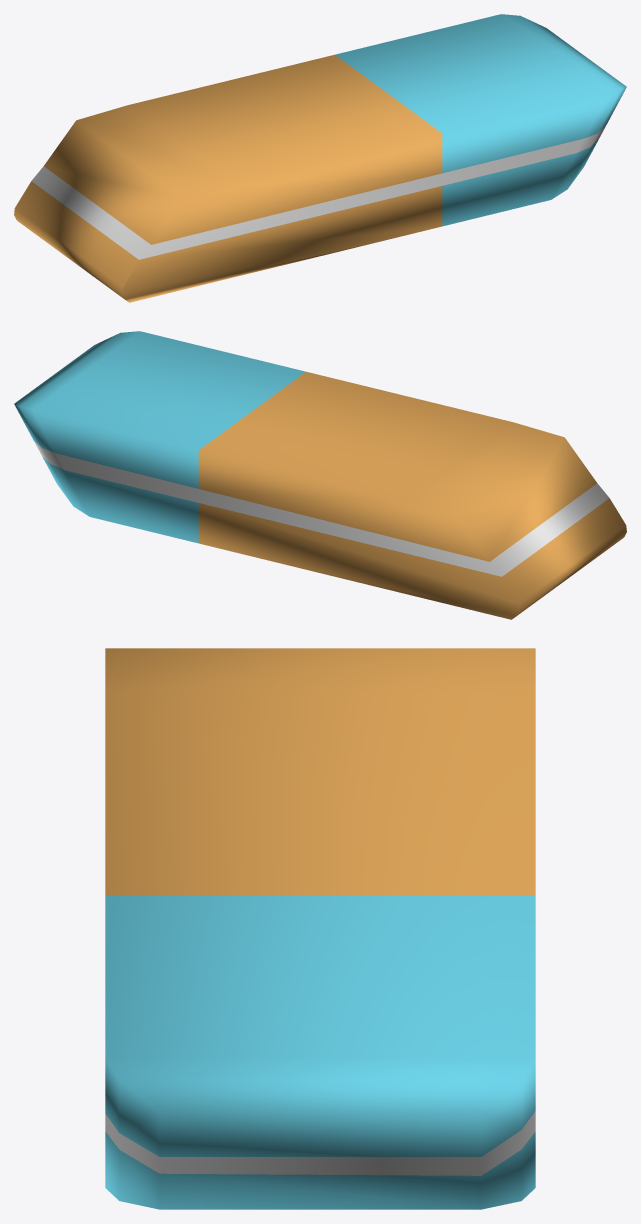
The model's file is simpleEraser.glb.
3 renders of one model, top to bottom at view 1: azimuth 30°, elevation 25°; view 2: azimuth 150°, elevation 25°; view 3: azimuth 270°, elevation 25°, orthographic. The views are drawn at different scales.
Parts seen in each view (by area): view 1: Cube.002; view 2: Cube.002; view 3: Cube.002.
Boxes of the visible parts, <box> form: Cube.002: <box>14,14,626,302</box>; Cube.002: <box>14,331,626,619</box>; Cube.002: <box>105,648,535,1209</box>.
Bounding box in the file's own units: 3.15 × 0.54 × 1.13.
